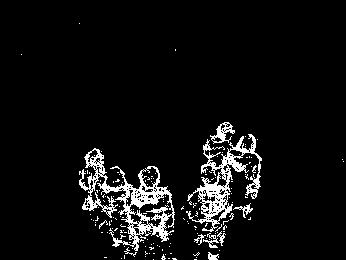person: (129, 164, 173, 258), (188, 165, 232, 258), (102, 164, 139, 252), (224, 131, 259, 221), (203, 119, 235, 202), (79, 147, 108, 230)
